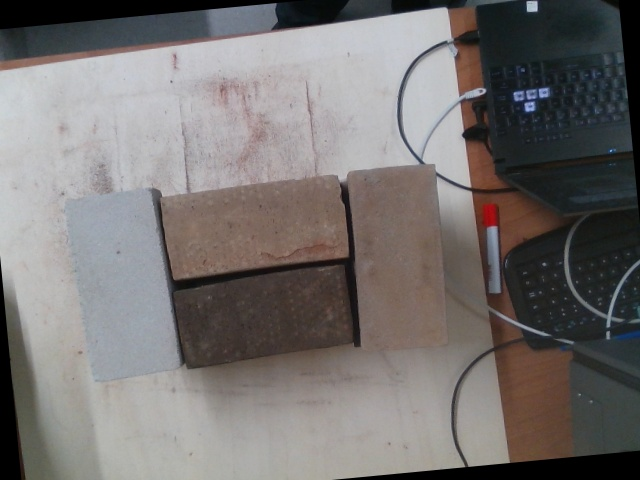brick: (67, 188, 178, 382), (163, 175, 345, 279), (348, 164, 448, 350), (172, 266, 352, 366)
